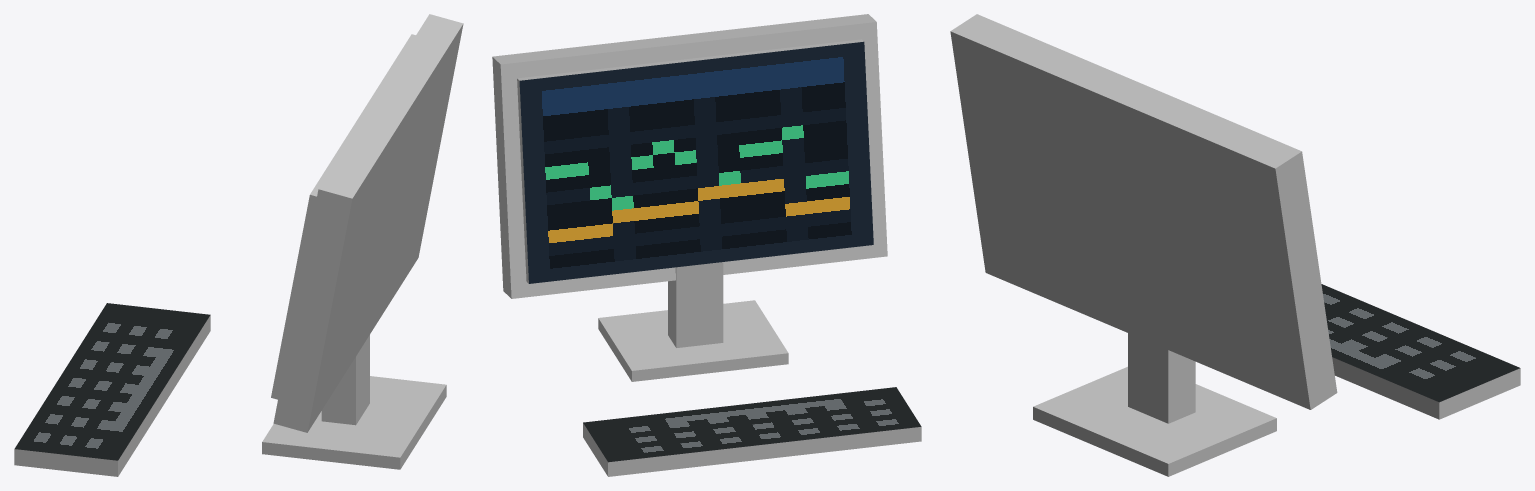
Rendered from desk_corner_flat.obj.
The picture shows the model from 3 angles, left to right: view 1: azimuth 30°, elevation 25°; view 2: azimuth 150°, elevation 25°; view 3: azimuth 270°, elevation 25°; orthographic projection. The views are drawn at different scales.
Parts seen in each view (by area): view 1: desk_corner_flat; view 2: desk_corner_flat; view 3: desk_corner_flat.
Part boxes in pixels (x1,y1,x2,y2): desk_corner_flat: (14,14,463,476); desk_corner_flat: (492,14,921,476); desk_corner_flat: (950,14,1520,476).
Bounding box in the file's own units: 0.5954 × 0.4024 × 0.5954.
